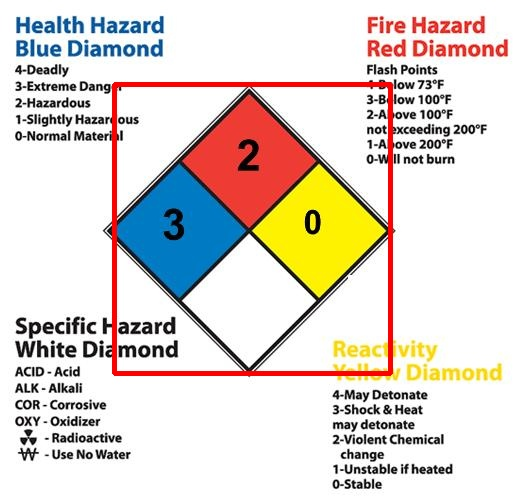nfpa: (114, 84, 390, 373)
